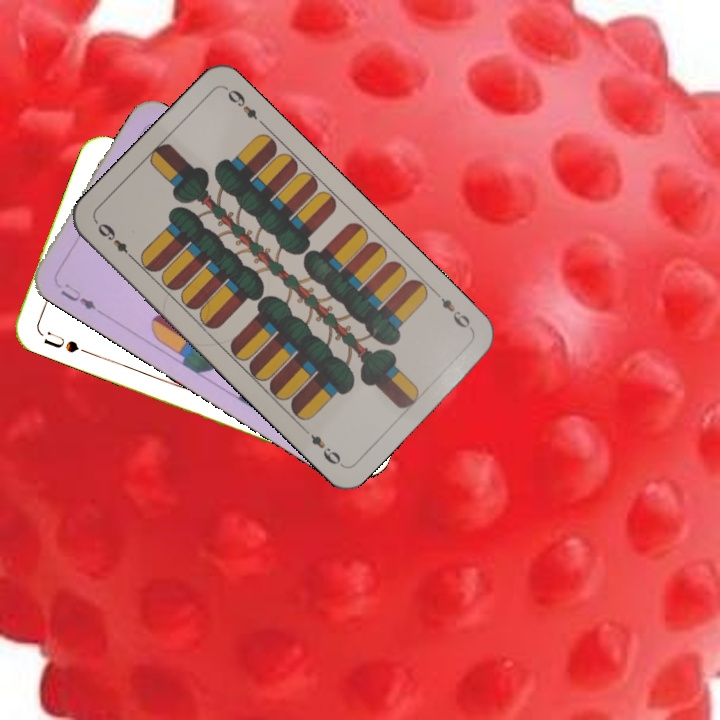E9: (430, 287, 476, 334), (93, 219, 138, 264)
EU: (57, 279, 99, 313)
SU: (35, 327, 92, 357)
